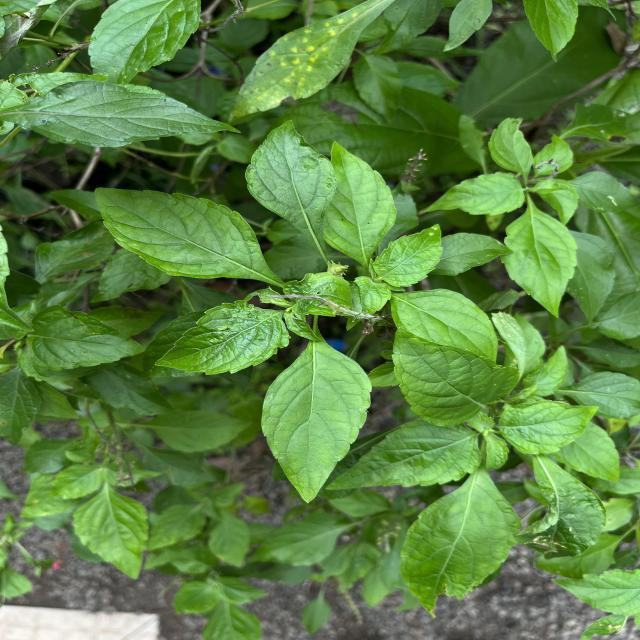Ocimum gratissimum: (92, 182, 291, 290), (260, 335, 374, 508), (396, 469, 526, 620), (0, 76, 241, 156), (242, 116, 340, 272), (389, 323, 509, 429), (322, 418, 486, 492), (316, 136, 400, 275), (149, 298, 293, 378), (84, 0, 203, 81), (21, 301, 152, 373), (386, 286, 502, 367), (498, 394, 602, 460)
